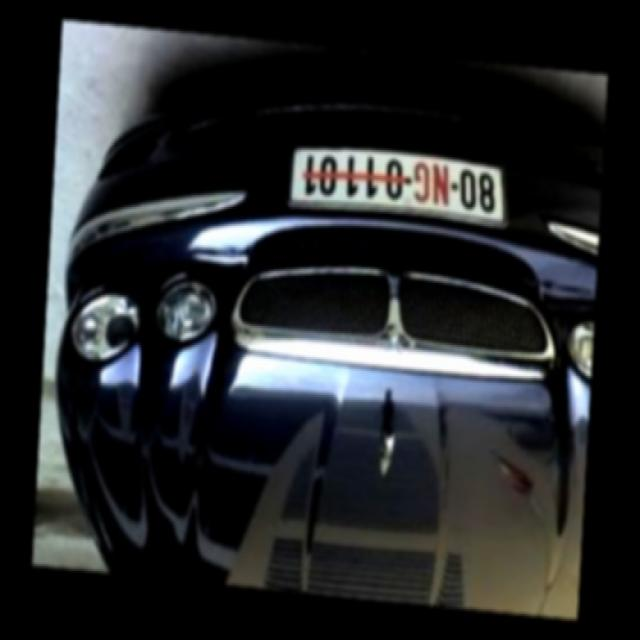bien_ngoai_giao: (290, 143, 509, 232)
